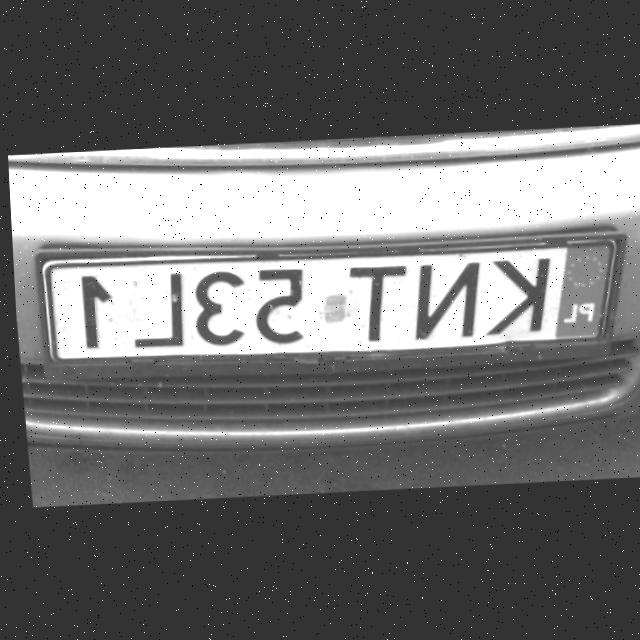license-plates: (41, 240, 614, 360)
